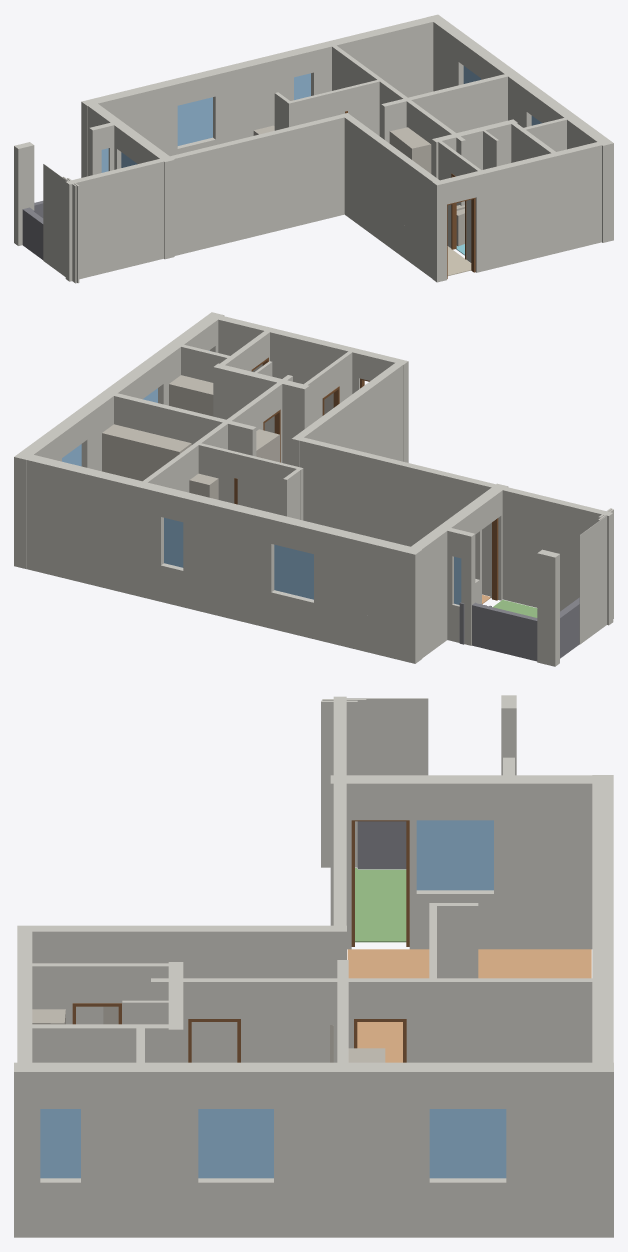
3 renders of one model, top to bottom at view 1: azimuth 30°, elevation 25°; view 2: azimuth 150°, elevation 25°; view 3: azimuth 270°, elevation 25°, orthographic. The views are drawn at different scales.
Visible parts, largest first — view 1: walls, window_2, furniture_2_closet, railings, door_5, floor_2_Entry, door_7, window_4; view 2: walls, railings, furniture_1_closet, window_2, furniture_3_closet, window_4, furniture_2_closet, furniture_0_closet, door_6; view 3: walls, floor_0_Living_Room, window_3, window_0, window_1, floor_4_Outdoor, window_11, railings, door_6.
Part boxes in pixels (x1,y1,x2,y2): walls: (14,14,613,283); window_2: (177,97,212,145); furniture_2_closet: (389,127,431,173); railings: (22,201,43,259); door_5: (447,197,475,278); floor_2_Entry: (447,246,471,275); door_7: (451,173,466,259); window_4: (294,73,310,100); walls: (14,312,613,666); railings: (459,597,579,661); furniture_1_closet: (102,424,191,481); window_2: (274,544,313,599); furniture_3_closet: (169,375,213,416); window_4: (164,517,183,567); furniture_2_closet: (256,429,279,462); furniture_0_closet: (189,473,218,499); door_6: (492,518,498,600); walls: (14,695,613,1237); floor_0_Living_Room: (347,949,591,1062); window_3: (416,820,493,890); window_0: (429,1109,506,1178); window_1: (198,1109,273,1178); floor_4_Outdoor: (355,868,406,942); window_11: (40,1109,80,1178); railings: (357,821,406,869); door_6: (351,820,409,946).
Bounding box in the file's own units: 13.16 × 2.72 × 8.86.
